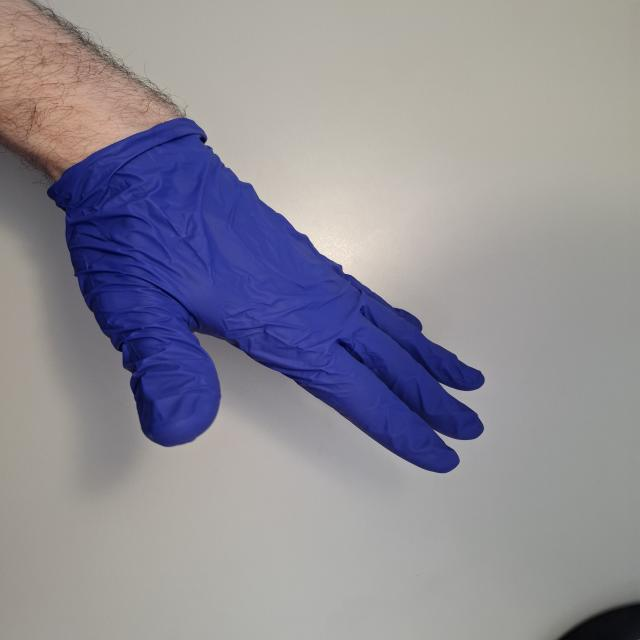glove_on: (51, 108, 488, 476)
